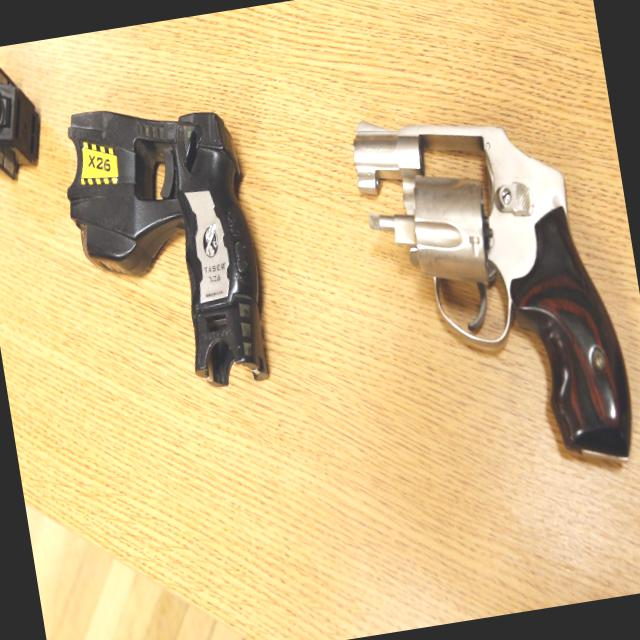handgun: (345, 64, 639, 533)
